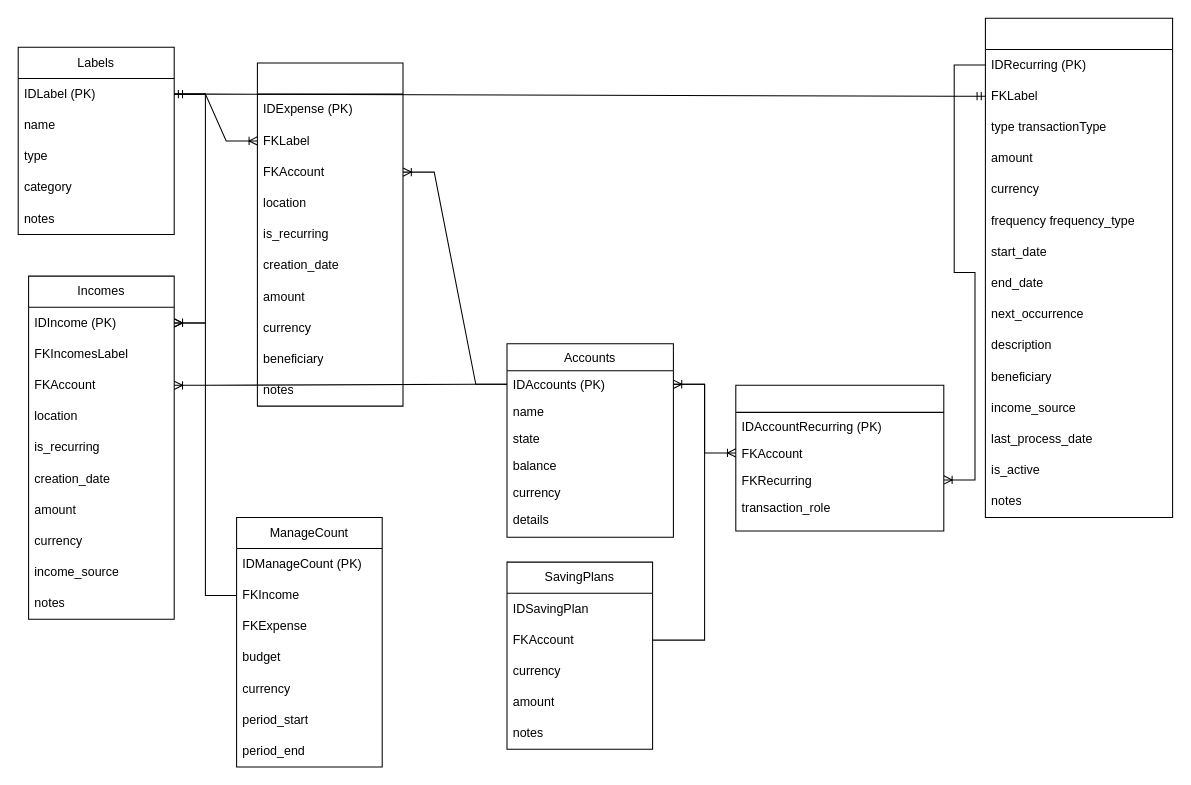
Some shapes in this 1191 by 785 pixel diagram are drawn without their labels. The shapes that lost their labels are listed below. From the top down, each one's box as (x1, y1, x2, y2) in pixels, then its label:
(256, 62, 403, 406): Expenses
(984, 17, 1173, 517): RecurringTransaction
(735, 384, 944, 531): AccountRecurringTransactions
